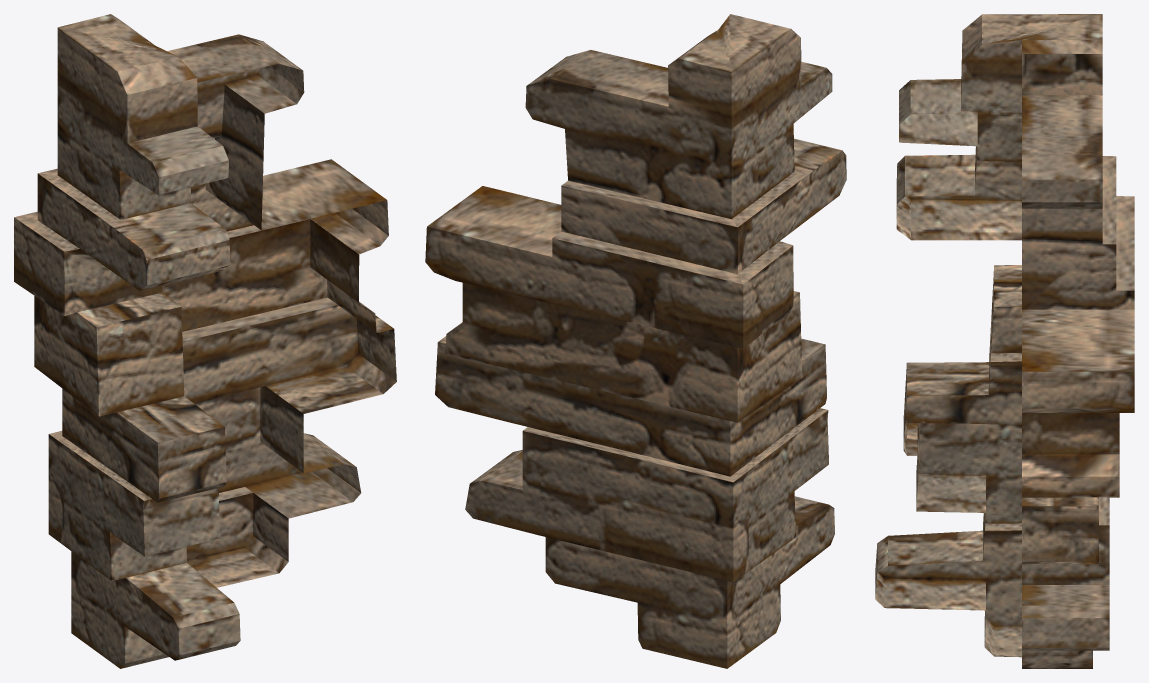
File: lower_city_wall_decor_01.fbx
3 renders of one model, left to right at view 1: azimuth 30°, elevation 25°; view 2: azimuth 150°, elevation 25°; view 3: azimuth 270°, elevation 25°, orthographic.
Visible parts, largest first — view 1: lower_city_wall_decor_01; view 2: lower_city_wall_decor_01; view 3: lower_city_wall_decor_01.
Part boxes in pixels (x1,y1,x2,y2): lower_city_wall_decor_01: [14, 14, 396, 668]; lower_city_wall_decor_01: [425, 14, 846, 668]; lower_city_wall_decor_01: [875, 14, 1134, 668].
Bounding box in the file's own units: 0.9182 × 1.62 × 0.6266.
